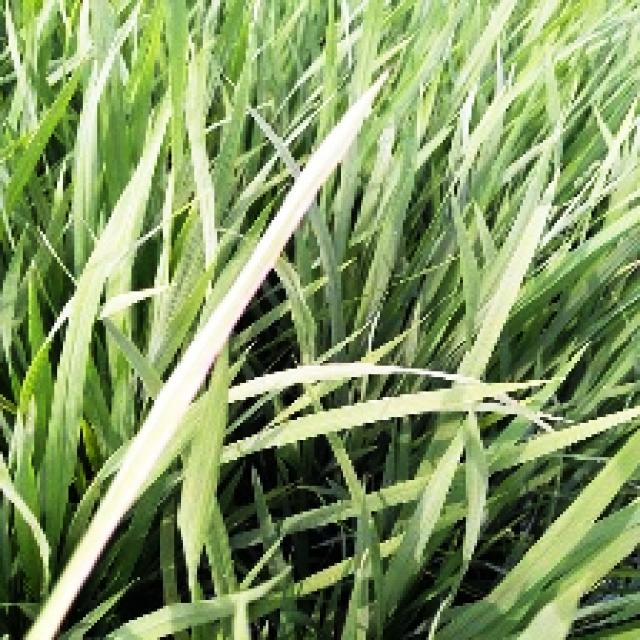unhealth: (24, 73, 388, 640)
